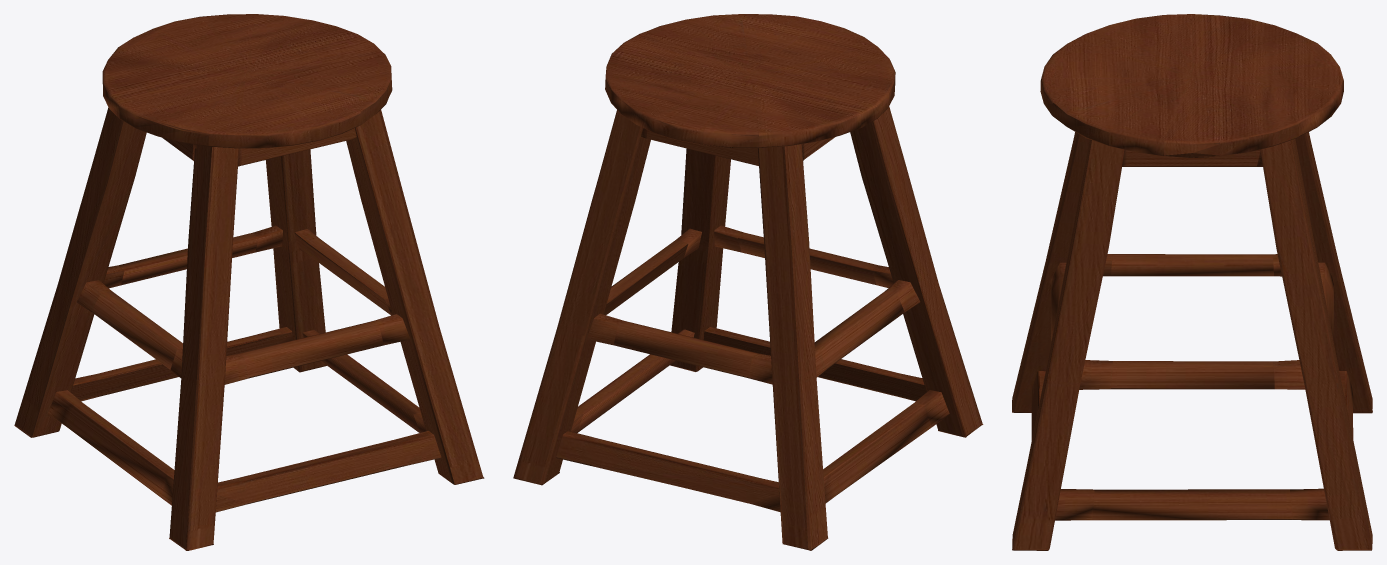
File: stool.glb
3 renders of one model, left to right at view 1: azimuth 30°, elevation 25°; view 2: azimuth 150°, elevation 25°; view 3: azimuth 270°, elevation 25°, orthographic. The views are drawn at different scales.
Bounding box in the file's own units: 0.38 × 0.46 × 0.38.
Materials: 1 (1 with a texture image).
